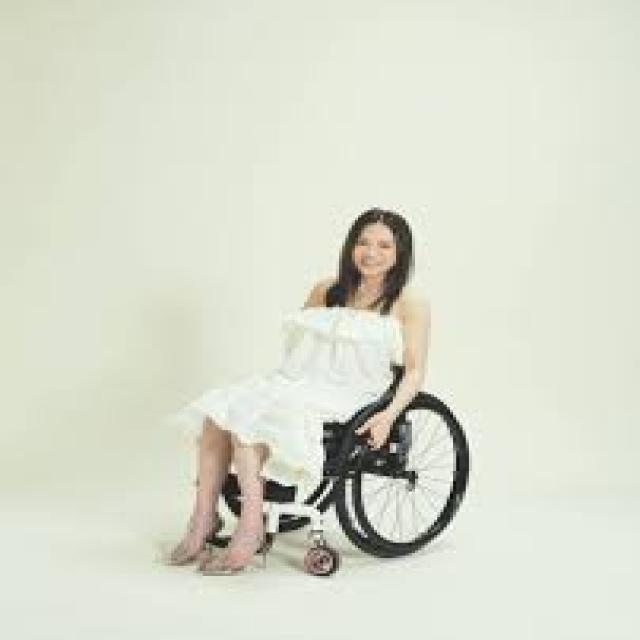wheelchairs: (149, 310, 469, 573)
